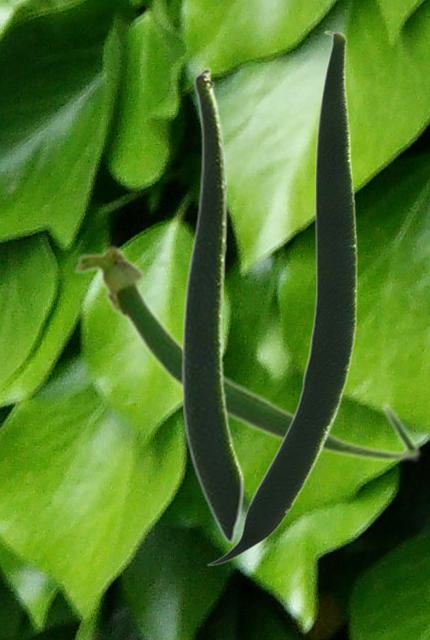french_bean: (206, 30, 356, 565), (71, 242, 421, 463), (180, 66, 244, 544)
